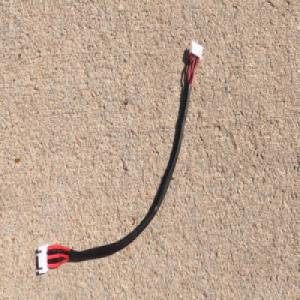Wire: (37, 38, 203, 276)
